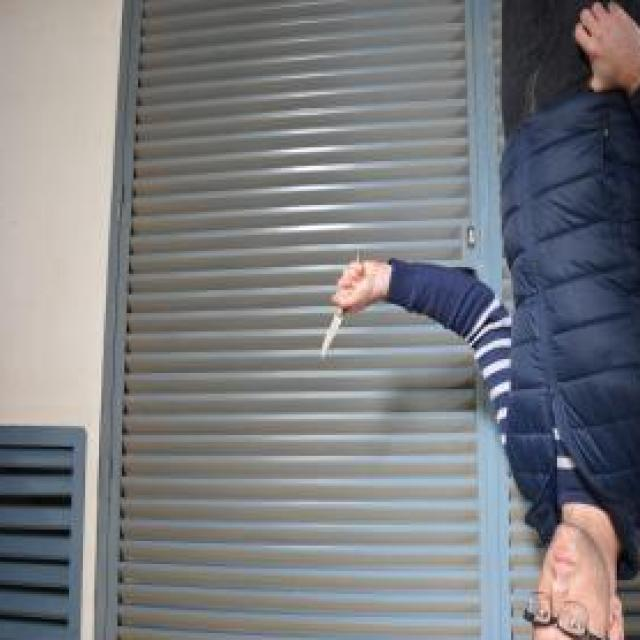knife: (318, 251, 361, 366)
